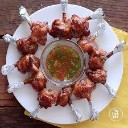chicken_lollipop: (17, 5, 50, 43), (85, 67, 120, 100), (74, 80, 102, 121), (31, 88, 59, 123), (71, 8, 108, 34), (90, 42, 126, 68), (1, 32, 41, 54), (49, 1, 72, 37), (9, 73, 46, 95), (2, 56, 42, 76), (59, 87, 82, 121), (79, 29, 107, 49)
